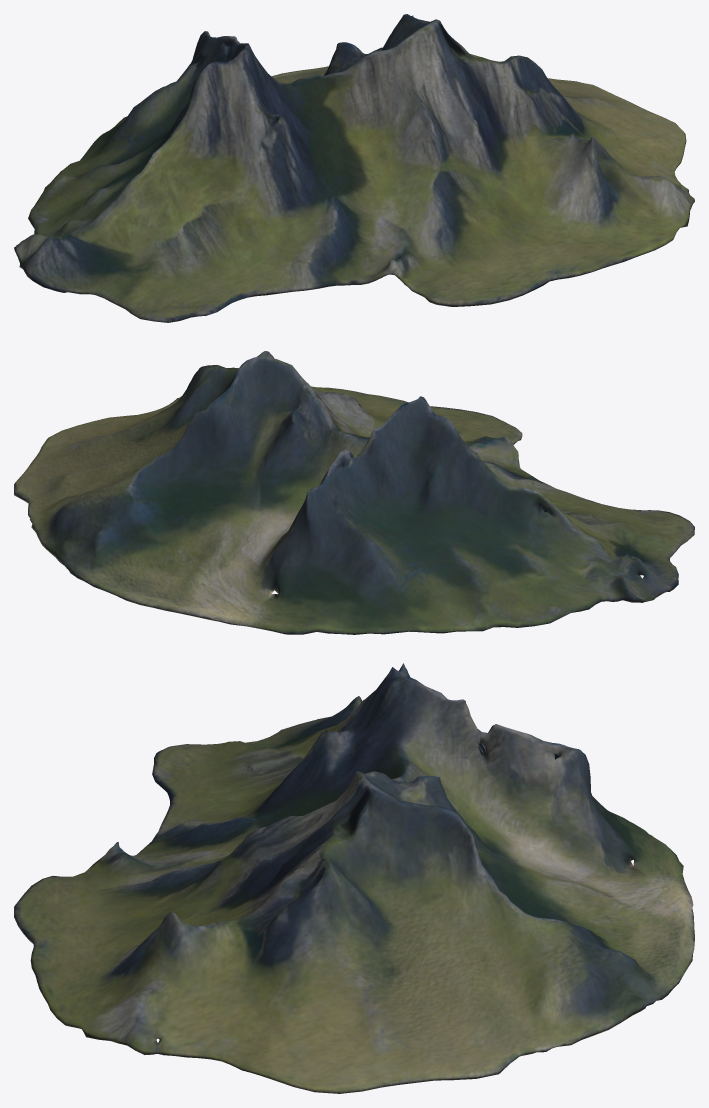
Rendered from big_mountain_with_cli_0306081029.fbx.
The picture shows the model from 3 angles, top to bottom: view 1: azimuth 30°, elevation 25°; view 2: azimuth 150°, elevation 25°; view 3: azimuth 270°, elevation 25°; orthographic projection. The views are drawn at different scales.
Visible parts, largest first — view 1: Mesh_0; view 2: Mesh_0; view 3: Mesh_0.
Boxes of the visible parts, x1,y1,x2,y2 form: Mesh_0: [14, 14, 694, 322]; Mesh_0: [14, 351, 694, 634]; Mesh_0: [14, 663, 694, 1093].
Bounding box in the file's own units: 199 × 47.73 × 153.
Materials: 1 (1 with a texture image).
